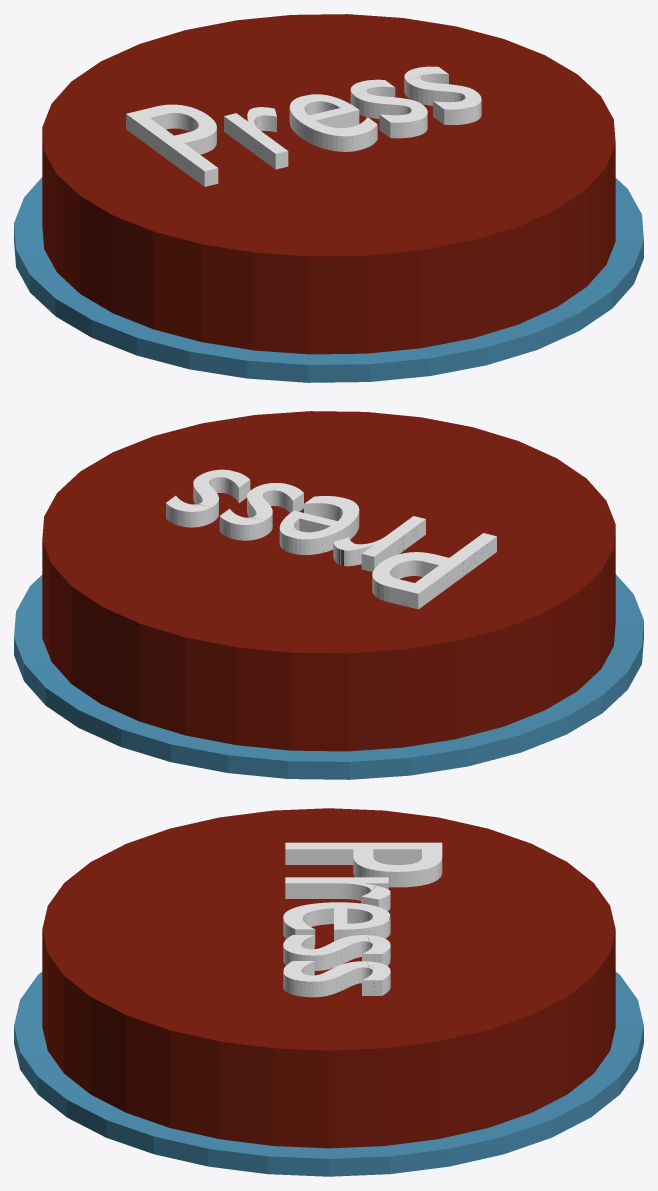
File: BotonAzul.fbx
3 views of the same model, one above another, from view 1: azimuth 30°, elevation 25°; view 2: azimuth 150°, elevation 25°; view 3: azimuth 270°, elevation 25° (orthographic).
Parts seen in each view (by area): view 1: Cylinder; view 2: Cylinder; view 3: Cylinder.
Boxes of the visible parts, box(x1,y1,x2,y2) form: Cylinder: box(14, 14, 643, 382); Cylinder: box(14, 411, 643, 779); Cylinder: box(14, 808, 643, 1176).
Size of the model in its own units: 100 by 22.73 by 100.
Materials: 1 (1 with a texture image).
